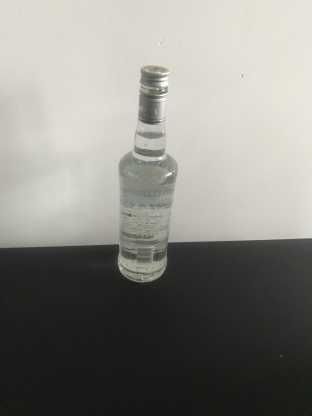nakretka: (136, 61, 170, 124)
